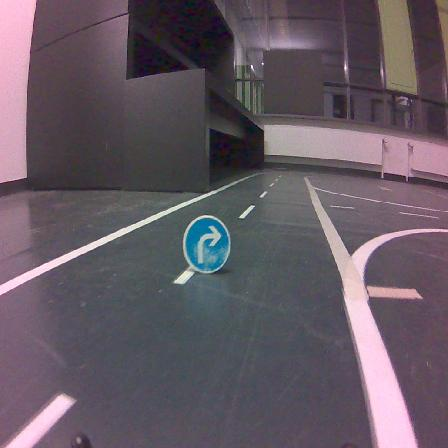RIGHT_TURN: (183, 215, 230, 272)
